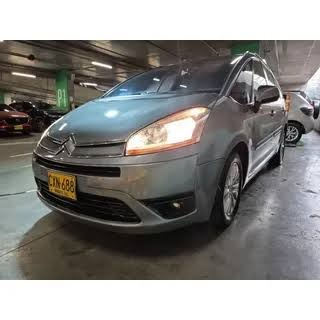car: (27, 49, 292, 242), (27, 52, 295, 228), (284, 85, 320, 145), (292, 65, 319, 138), (1, 102, 55, 135), (1, 105, 34, 136)
